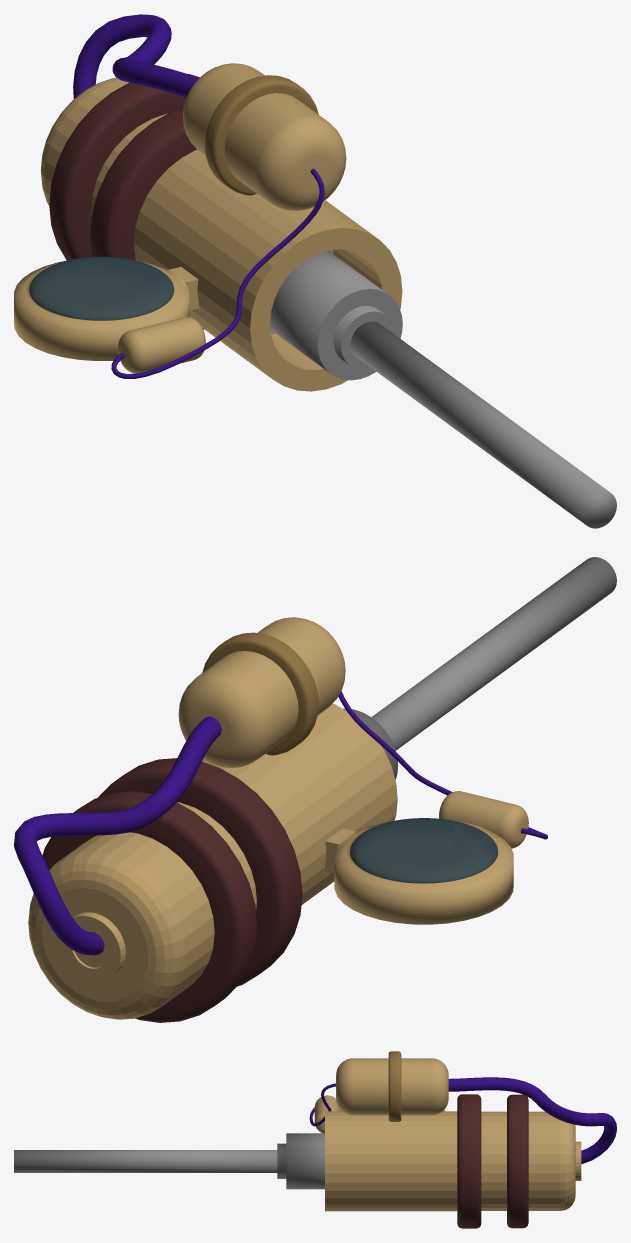
The model's file is Mechanisme1.fbx.
The picture shows the model from 3 angles, top to bottom: view 1: azimuth 30°, elevation 25°; view 2: azimuth 150°, elevation 25°; view 3: azimuth 270°, elevation 25°; orthographic projection. The views are drawn at different scales.
Visible parts, largest first — view 1: Mechanisme-1; view 2: Mechanisme-1; view 3: Mechanisme-1.
Boxes of the visible parts, bbox=[...] form: Mechanisme-1: bbox=[14, 14, 616, 528]; Mechanisme-1: bbox=[14, 557, 616, 1022]; Mechanisme-1: bbox=[14, 1051, 616, 1228].
Size of the model in its own units: 13459 by 11037 by 36120.
